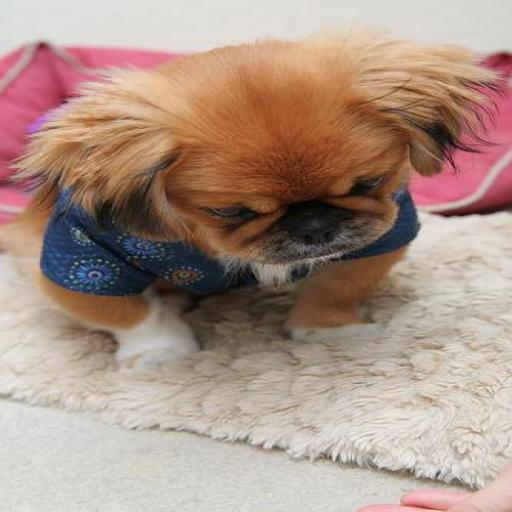dog_face: (38, 40, 462, 274)
